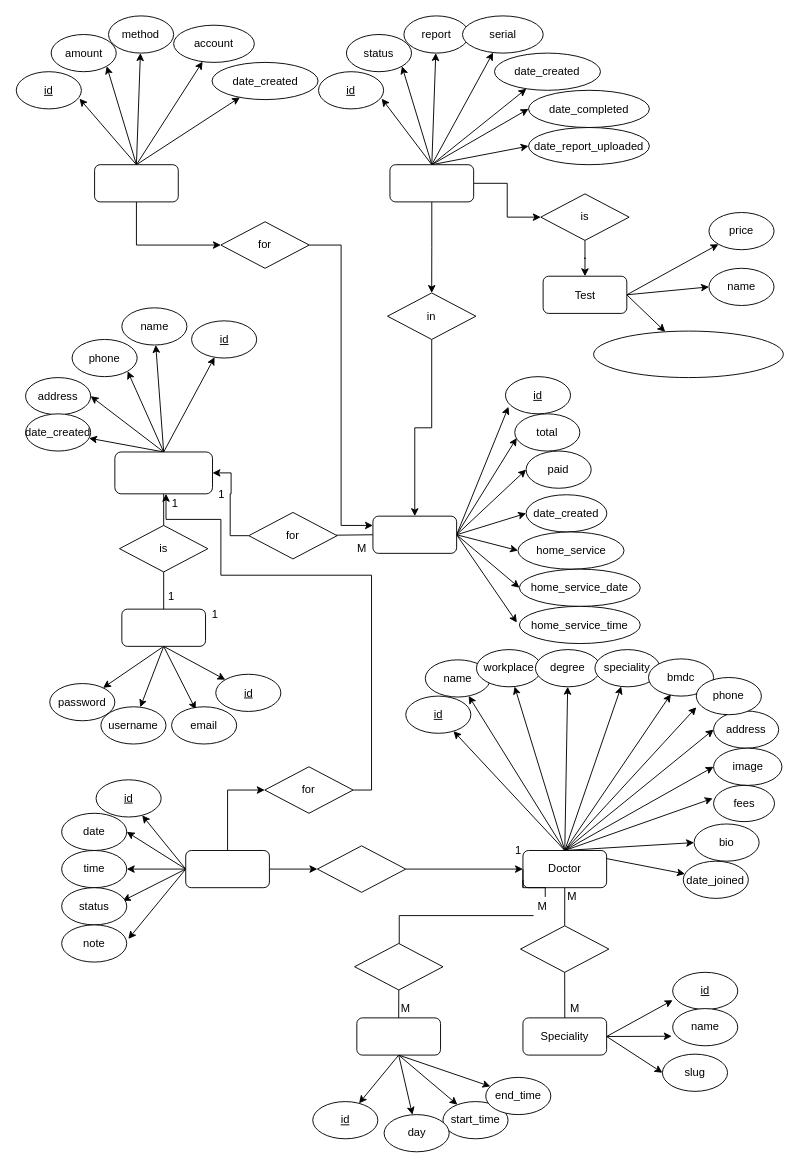
This 800x1169 diagram has some shape labels left out. The shapes that lost their labels are listed below. From the top down, each one's centre as x and y in pixels, then its label:
At point (136, 183): "Payment".
At point (431, 183): "InvoiceItem".
At point (688, 354): "home_service_available".
At point (163, 472): "Patient".
At point (414, 534): "Invoice".
At point (163, 627): "user".
At point (227, 869): "Appointment".
At point (361, 868): "of".
At point (398, 966): "scheduled in".
At point (564, 948): "specialized in".
At point (398, 1036): "Schedules".
